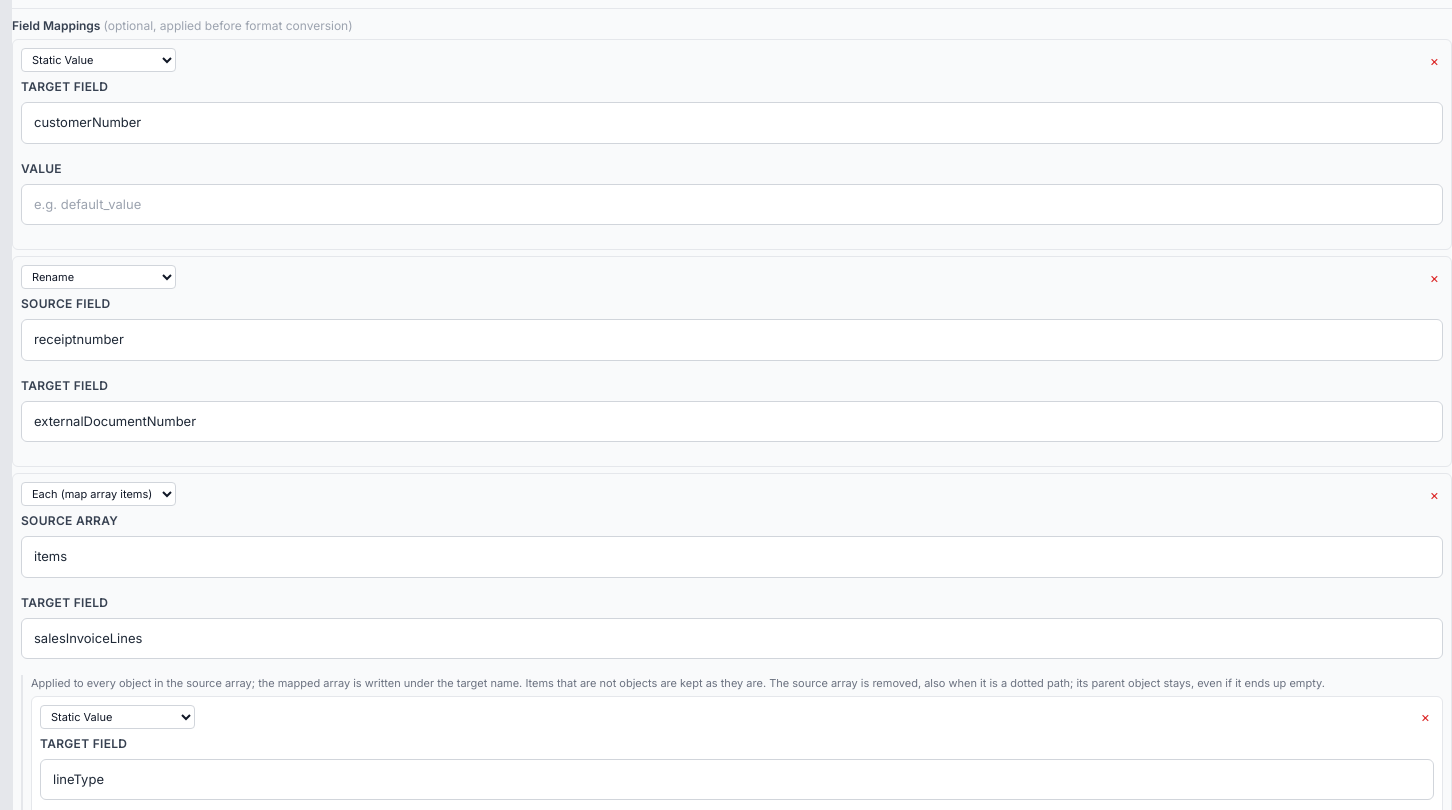
each row › removes an item mapping
Click the 4th button "×".
click(1425, 716)  # box top-left (1417, 706), bottom-right (1434, 727)
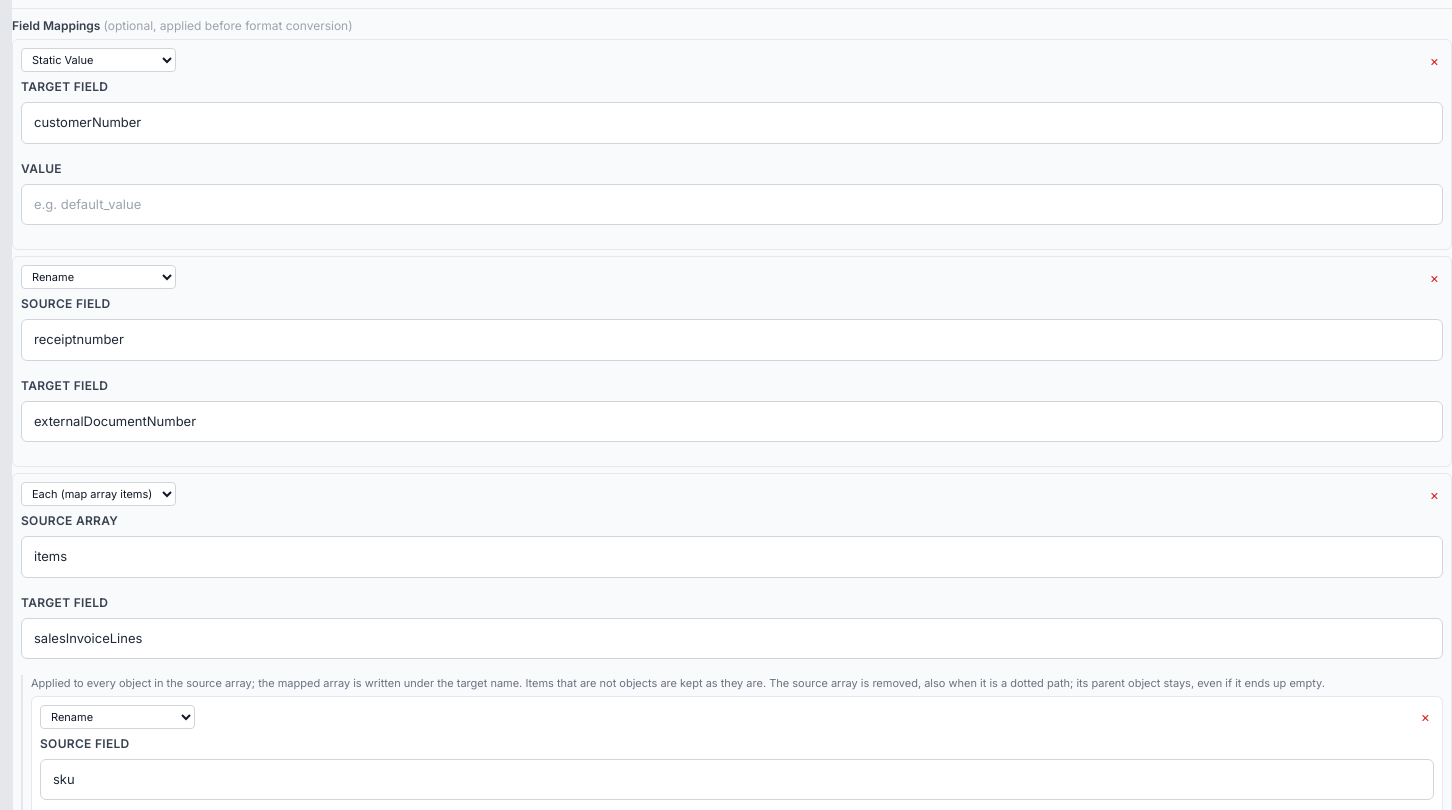
Expected: the number of dropdowns named "Type of item mapping 1 of mapping 3 (sku → lineObjectNumber)" is 3
